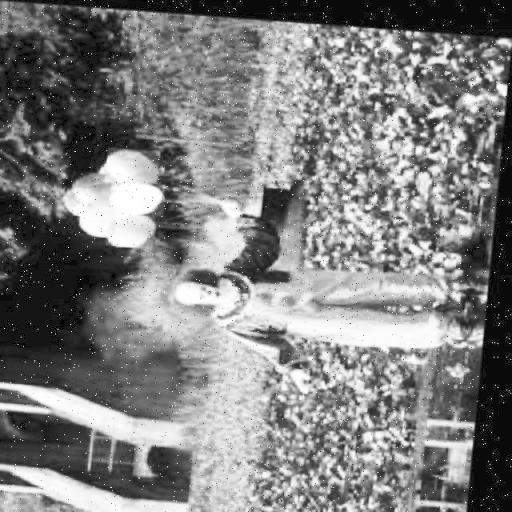balloon: (112, 178, 170, 214), (109, 144, 163, 182), (110, 209, 160, 245), (76, 169, 122, 203), (83, 200, 121, 232), (63, 185, 94, 214), (100, 161, 116, 172)
